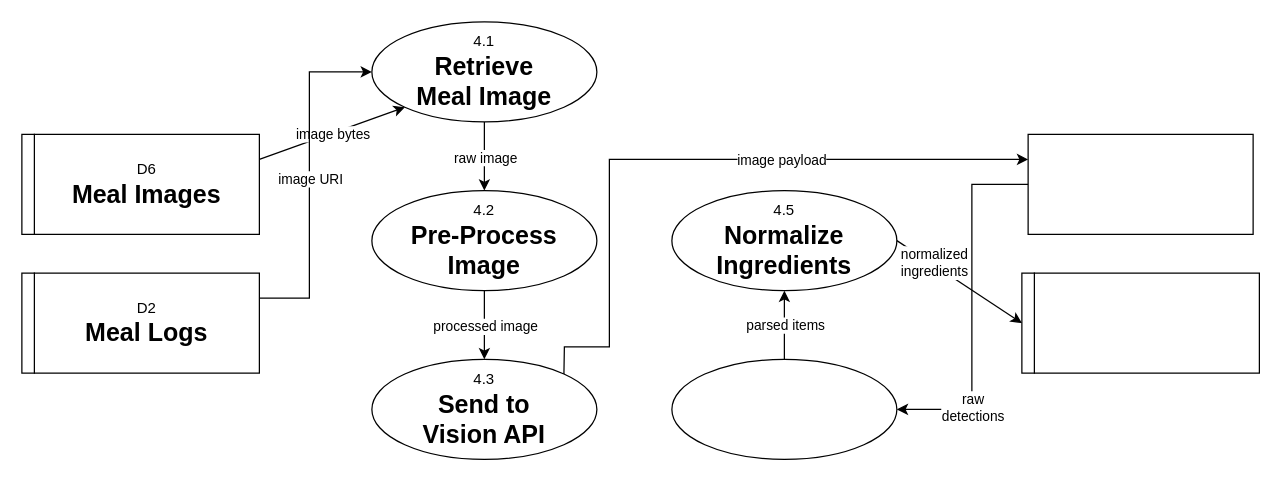
Image size: 1281x481. Some labels were removed from this diagram. The shapes that lost their labels are listed below. From the top down, each one's centre as x and y in pixels, then its label:
At pixel 1140 183: "E3 AI Vision Service".
At pixel 1146 322: "D3 Analysis Results".
At pixel 784 408: "4.4 Parse Detections".
